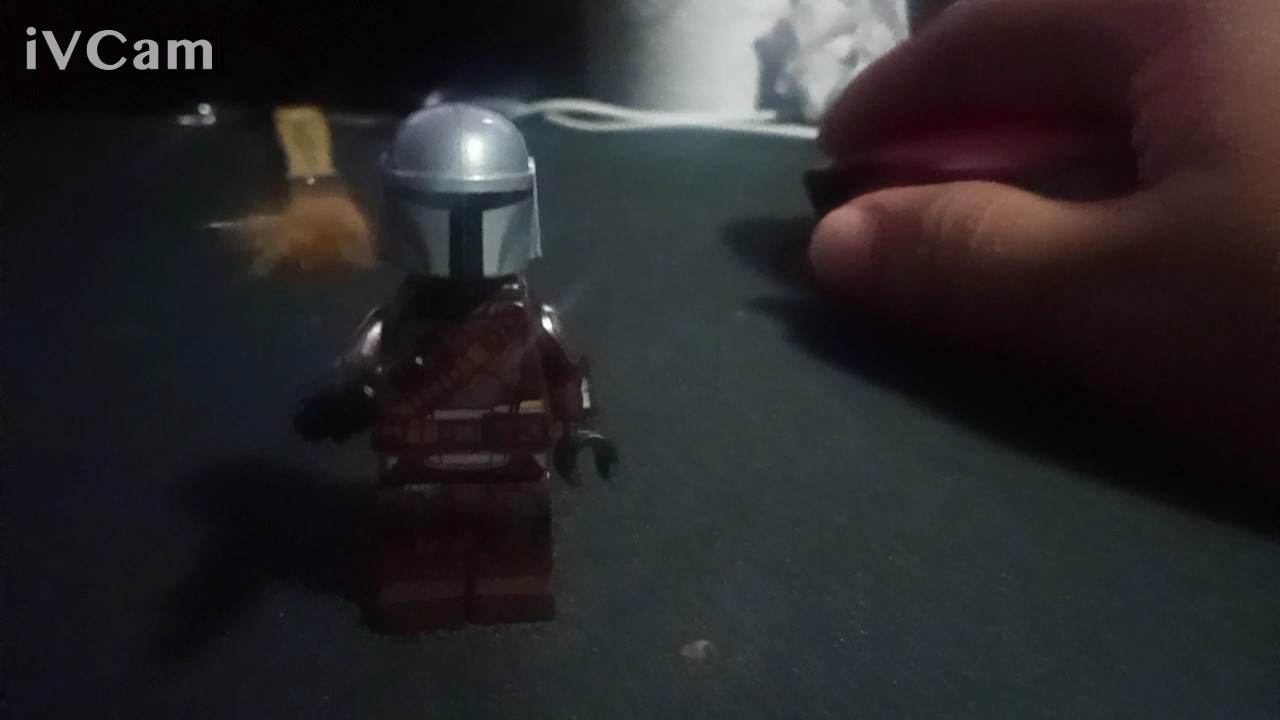mandalorian: (300, 99, 623, 636)
